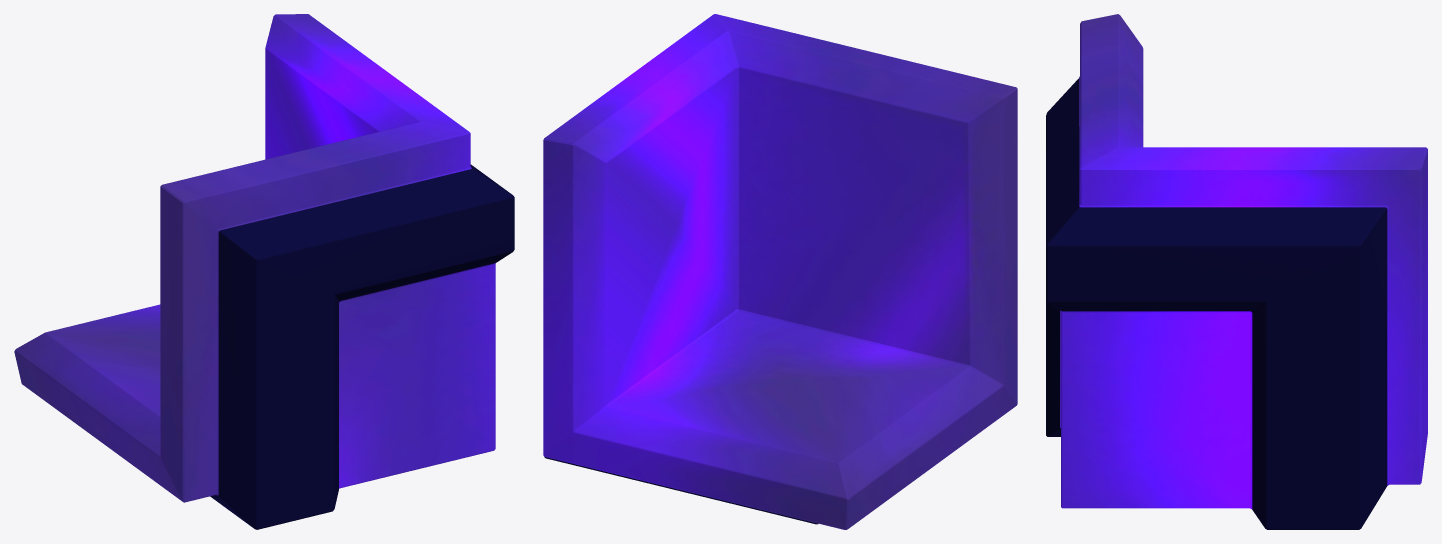
Rendered from corner1.fbx.
3 views of the same model, side by side, from view 1: azimuth 30°, elevation 25°; view 2: azimuth 150°, elevation 25°; view 3: azimuth 270°, elevation 25° (orthographic). The views are drawn at different scales.
Parts seen in each view (by area): view 1: corner1; view 2: corner1; view 3: corner1.
Boxes of the visible parts, x1,y1,x2,y2 form: corner1: (14,14,514,529); corner1: (543,14,1017,529); corner1: (1046,14,1427,529).
Size of the model in its own units: 153 by 153 by 150.
